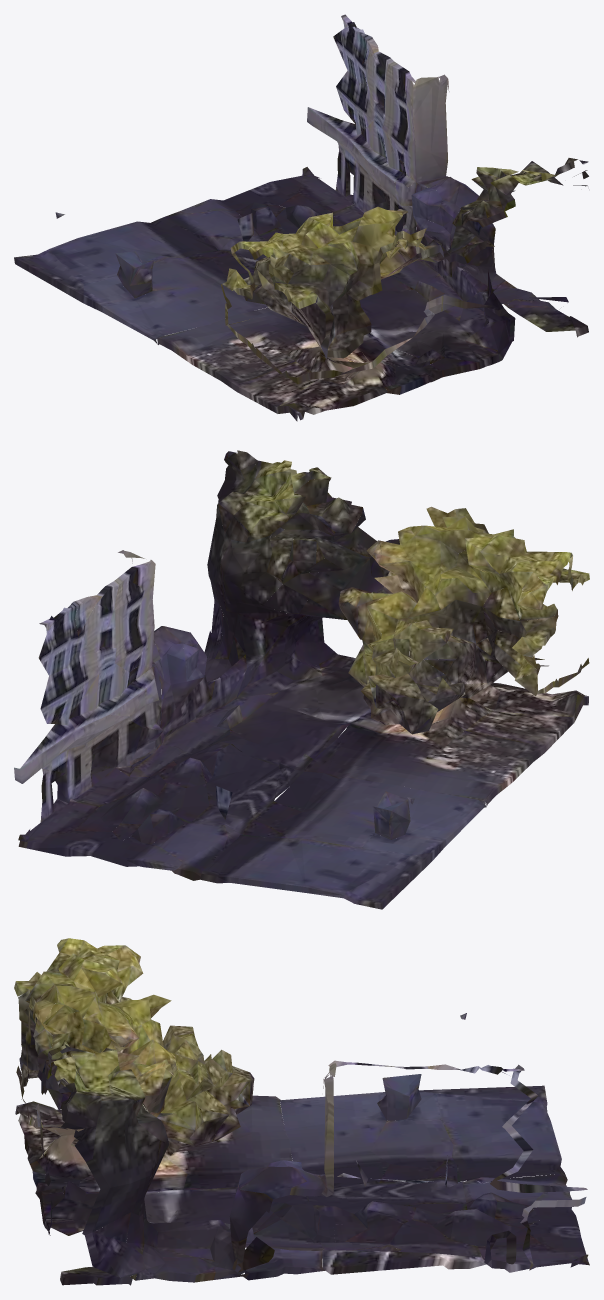
The picture shows the model from 3 angles, top to bottom: view 1: azimuth 30°, elevation 25°; view 2: azimuth 150°, elevation 25°; view 3: azimuth 270°, elevation 25°; orthographic projection. The views are drawn at different scales.
Parts seen in each view (by area): view 1: Mesh_0; view 2: Mesh_0; view 3: Mesh_0.
Part boxes in pixels (x1=…): Mesh_0: x1=14, y1=14, x2=588, y2=421; Mesh_0: x1=14, y1=450, x2=589, y2=909; Mesh_0: x1=14, y1=938, x2=589, y2=1285.
Bounding box in the file's own units: 33.35 × 16.57 × 41.59.
Materials: 2 (2 with a texture image).
